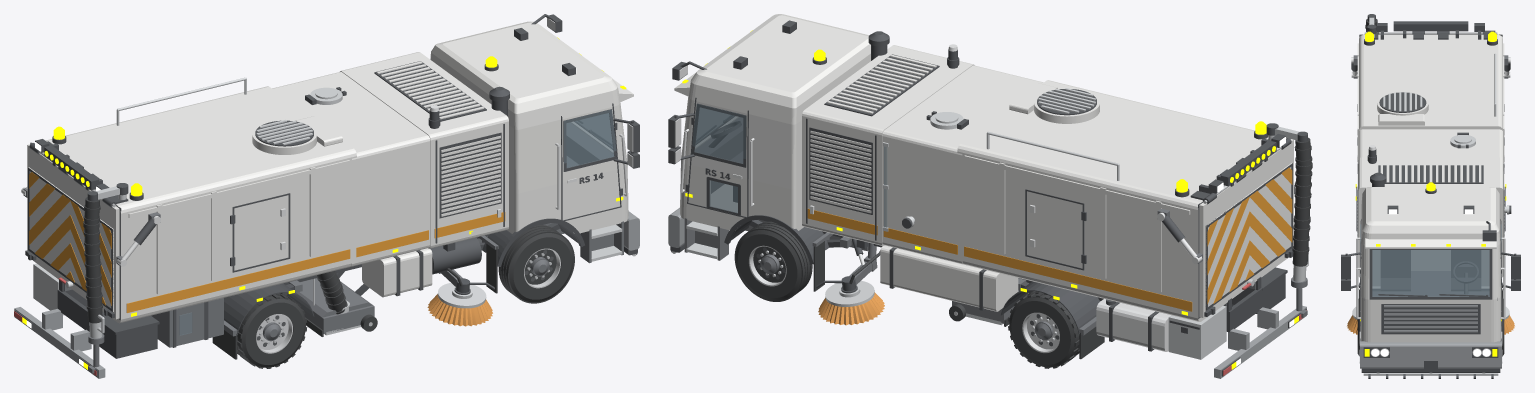
Rendered from Vacuum_Road_Sweeper.glb.
3 renders of one model, left to right at view 1: azimuth 30°, elevation 25°; view 2: azimuth 150°, elevation 25°; view 3: azimuth 270°, elevation 25°, orthographic. The views are drawn at different scales.
Parts seen in each view (by area): view 1: hopper, cab, water_tank, engine_housing, tyres, side_stripes, louvre_slats, chevrons, chevron_plate, hopper_ribs, louvre_panels, rear_door (+36 smaller); view 2: hopper, cab, water_tank, engine_housing, tyres, saddle_tanks, chevrons, side_stripes, chevron_plate, windows, louvre_slats, rear_door (+35 smaller); view 3: cab, hopper, windows, water_tank, bumper, engine_housing, seats, grille_slats, grille, radiator_grille, sun_visor, dash (+29 smaller).
Boxes of the visible parts, x1=… form: hopper: x1=33, y1=86, x2=356, y2=323; cab: x1=430, y1=21, x2=628, y2=233; water_tank: x1=272, y1=71, x2=430, y2=266; engine_housing: x1=340, y1=52, x2=508, y2=248; tyres: x1=237, y1=225, x2=574, y2=368; side_stripes: x1=126, y1=212, x2=505, y2=312; louvre_slats: x1=441, y1=135, x2=500, y2=216; chevrons: x1=29, y1=172, x2=111, y2=305; chevron_plate: x1=28, y1=167, x2=113, y2=311; hopper_ribs: x1=128, y1=160, x2=349, y2=294; louvre_panels: x1=439, y1=132, x2=501, y2=218; rear_door: x1=27, y1=144, x2=119, y2=319; hopper: x1=957, y1=80, x2=1287, y2=321; cab: x1=680, y1=14, x2=870, y2=230; water_tank: x1=882, y1=65, x2=1043, y2=264; engine_housing: x1=802, y1=45, x2=974, y2=245; tyres: x1=734, y1=221, x2=1079, y2=368; saddle_tanks: x1=880, y1=245, x2=1018, y2=311; chevrons: x1=1207, y1=167, x2=1292, y2=304; side_stripes: x1=807, y1=208, x2=1192, y2=311; chevron_plate: x1=1205, y1=163, x2=1292, y2=310; windows: x1=692, y1=104, x2=746, y2=213; louvre_slats: x1=810, y1=131, x2=871, y2=213; rear_door: x1=1199, y1=139, x2=1293, y2=317; cab: x1=1360, y1=187, x2=1501, y2=342; hopper: x1=1359, y1=34, x2=1502, y2=130; windows: x1=1360, y1=224, x2=1501, y2=296; water_tank: x1=1358, y1=129, x2=1503, y2=158; bumper: x1=1360, y1=341, x2=1501, y2=368; engine_housing: x1=1358, y1=157, x2=1503, y2=277; seats: x1=1381, y1=250, x2=1480, y2=290; grille_slats: x1=1384, y1=305, x2=1477, y2=332; grille: x1=1381, y1=304, x2=1480, y2=334; radiator_grille: x1=1378, y1=165, x2=1483, y2=183; sun_visor: x1=1365, y1=238, x2=1496, y2=248; dash: x1=1364, y1=271, x2=1497, y2=300.
Bounding box in the file's own units: 8.65 × 3.21 × 3.07.
